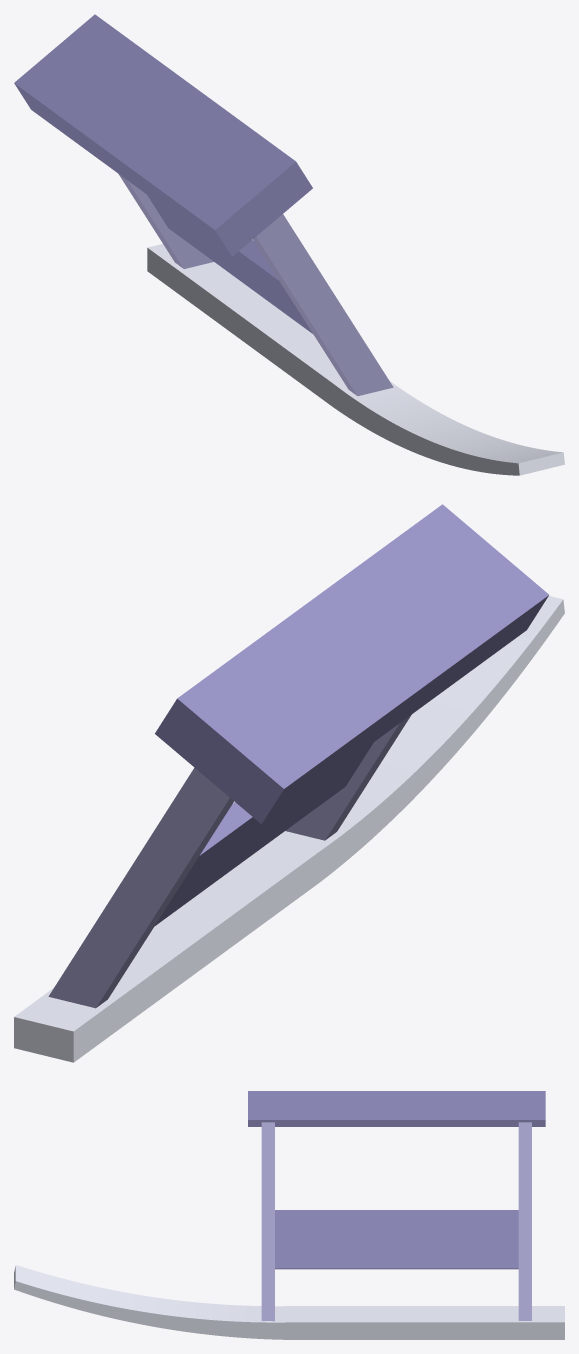
The model's file is helicopter_left_leg.glb.
3 views of the same model, one above another, from view 1: azimuth 30°, elevation 25°; view 2: azimuth 150°, elevation 25°; view 3: azimuth 270°, elevation 25° (orthographic). The views are drawn at different scales.
Parts seen in each view (by area): view 1: mergedBlocks(Clone); view 2: mergedBlocks(Clone); view 3: mergedBlocks(Clone).
Part boxes in pixels (left/top/right/bottom): mergedBlocks(Clone): left=14, top=14, right=564, bottom=475; mergedBlocks(Clone): left=14, top=504, right=564, bottom=1062; mergedBlocks(Clone): left=14, top=1091, right=564, bottom=1339.
Size of the model in its own units: 0.6354 by 0.895 by 2.14.
